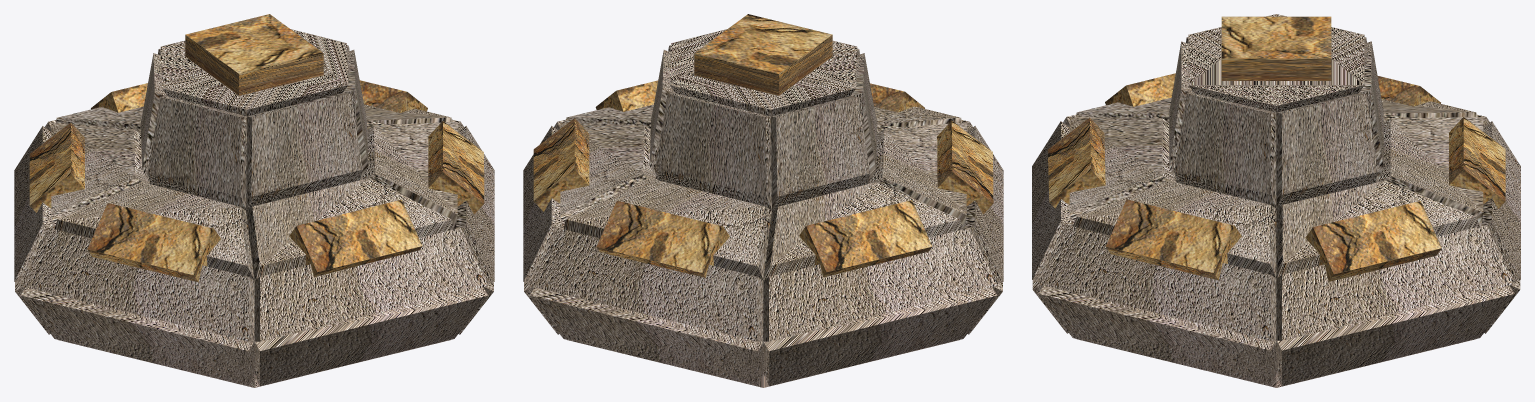
File: mine.FBX
The picture shows the model from 3 angles, left to right: view 1: azimuth 30°, elevation 25°; view 2: azimuth 150°, elevation 25°; view 3: azimuth 270°, elevation 25°; orthographic projection.
Parts seen in each view (by area): view 1: Cylinder001, Box008, Box001, Box002, Box003, Box006, Box004, Box005; view 2: Cylinder001, Box008, Box005, Box006, Box004, Box001, Box003, Box002; view 3: Cylinder001, Box008, Box004, Box003, Box005, Box002, Box001, Box006.
Boxes of the visible parts, x1,y1,x2,y2 form: Cylinder001: (14, 29, 494, 387); Box008: (185, 14, 323, 95); Box001: (87, 203, 220, 282); Box002: (289, 199, 422, 276); Box003: (428, 121, 484, 214); Box006: (29, 122, 84, 212); Box004: (359, 80, 427, 112); Box005: (91, 83, 147, 112); Cylinder001: (523, 29, 1003, 387); Box008: (694, 14, 832, 95); Box005: (596, 200, 729, 277); Box006: (799, 200, 932, 277); Box004: (533, 118, 589, 211); Box001: (937, 120, 993, 214); Box003: (595, 80, 658, 111); Box002: (870, 83, 924, 112); Cylinder001: (1032, 14, 1520, 387); Box008: (1221, 16, 1331, 80); Box004: (1305, 201, 1441, 281); Box003: (1105, 199, 1241, 280); Box005: (1449, 117, 1505, 208); Box002: (1047, 117, 1105, 208); Box001: (1105, 73, 1175, 106); Box006: (1377, 76, 1440, 106).
Bounding box in the file's own units: 84.11 × 42.03 × 73.68.
